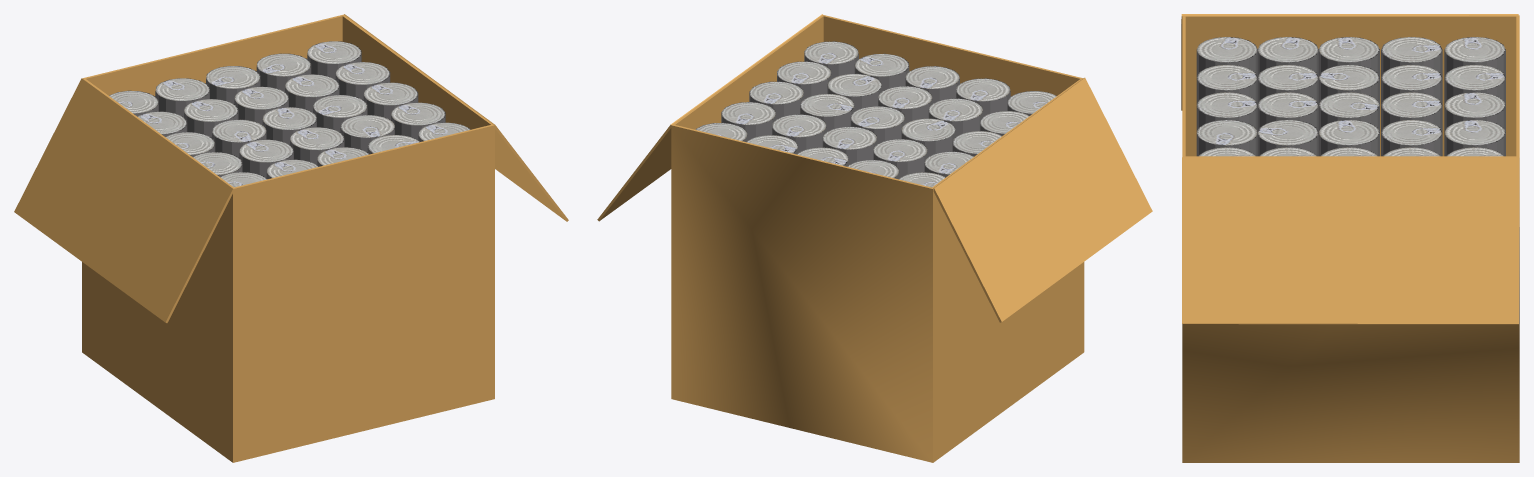
File: BoxWithCans.fbx
3 views of the same model, side by side, from view 1: azimuth 30°, elevation 25°; view 2: azimuth 150°, elevation 25°; view 3: azimuth 270°, elevation 25° (orthographic). The views are drawn at different scales.
Visible parts, largest first — view 1: Box, Cans, Flap, Flap.001; view 2: Box, Cans, Flap, Flap.001; view 3: Box, Flap.001, Cans, Flap.
Boxes of the visible parts, x1,y1,x2,y2 form: Box: [82, 14, 494, 462]; Cans: [109, 41, 470, 187]; Flap: [14, 78, 234, 322]; Flap.001: [344, 14, 568, 221]; Box: [671, 15, 1084, 462]; Cans: [695, 41, 1056, 187]; Flap: [933, 77, 1152, 322]; Flap.001: [597, 14, 822, 221]; Box: [1182, 15, 1519, 462]; Flap.001: [1182, 157, 1519, 324]; Cans: [1196, 37, 1505, 156]; Flap: [1181, 14, 1518, 110].
Bounding box in the file's own units: 154 × 100 × 100.
